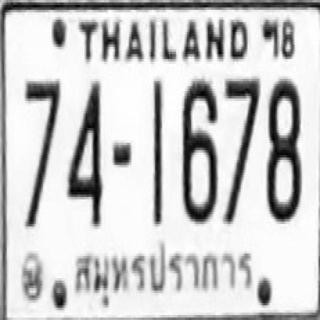N01: (152, 78, 162, 225)
N04: (66, 78, 102, 225)
N06: (181, 78, 215, 220)
N07: (23, 77, 61, 228), (222, 76, 258, 222)
N08: (265, 76, 299, 219)
P57: (70, 236, 258, 311)
